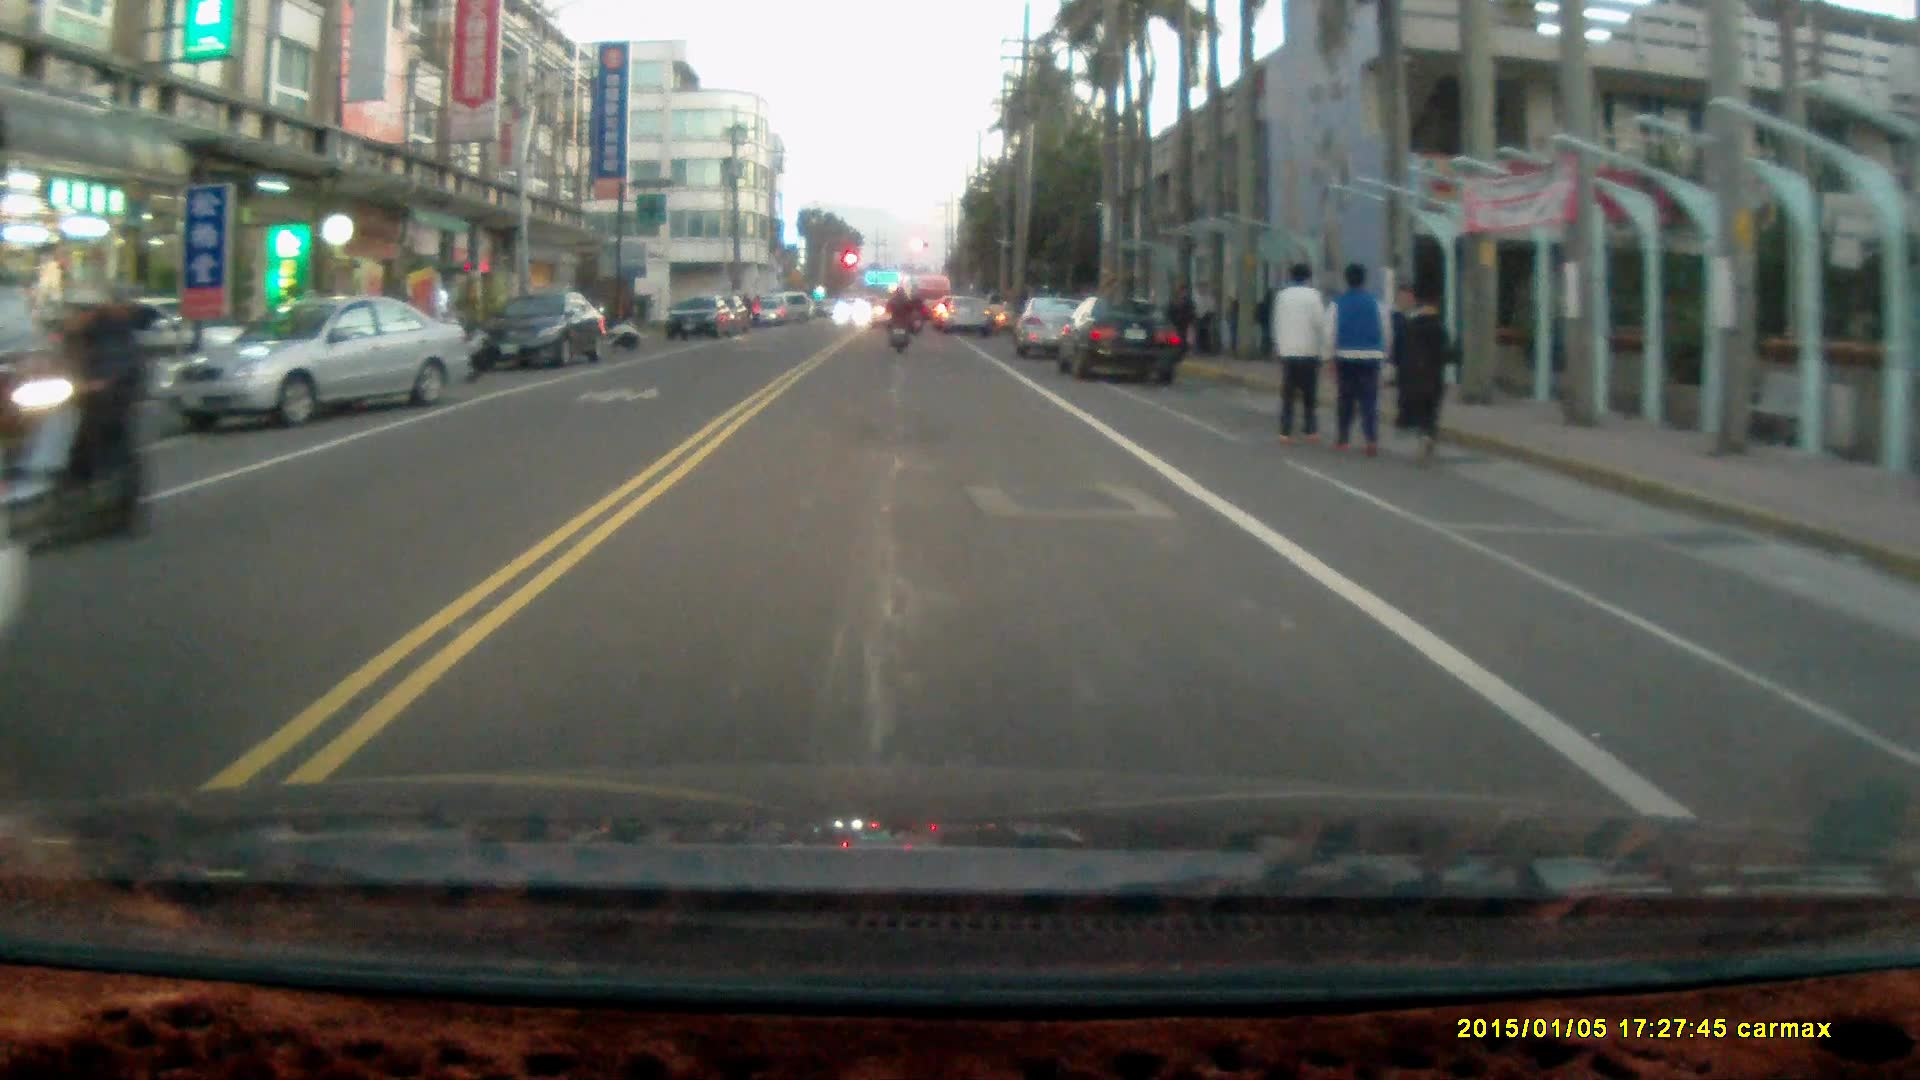pedestrian: (1317, 259, 1395, 461), (1270, 258, 1329, 447), (1398, 282, 1458, 462), (1164, 277, 1200, 359), (1187, 277, 1217, 360)
rider: (0, 278, 161, 558), (882, 283, 913, 354)
vehicle: (167, 291, 476, 424), (1058, 292, 1185, 381), (483, 286, 608, 367), (1018, 295, 1086, 358), (665, 296, 739, 343)
